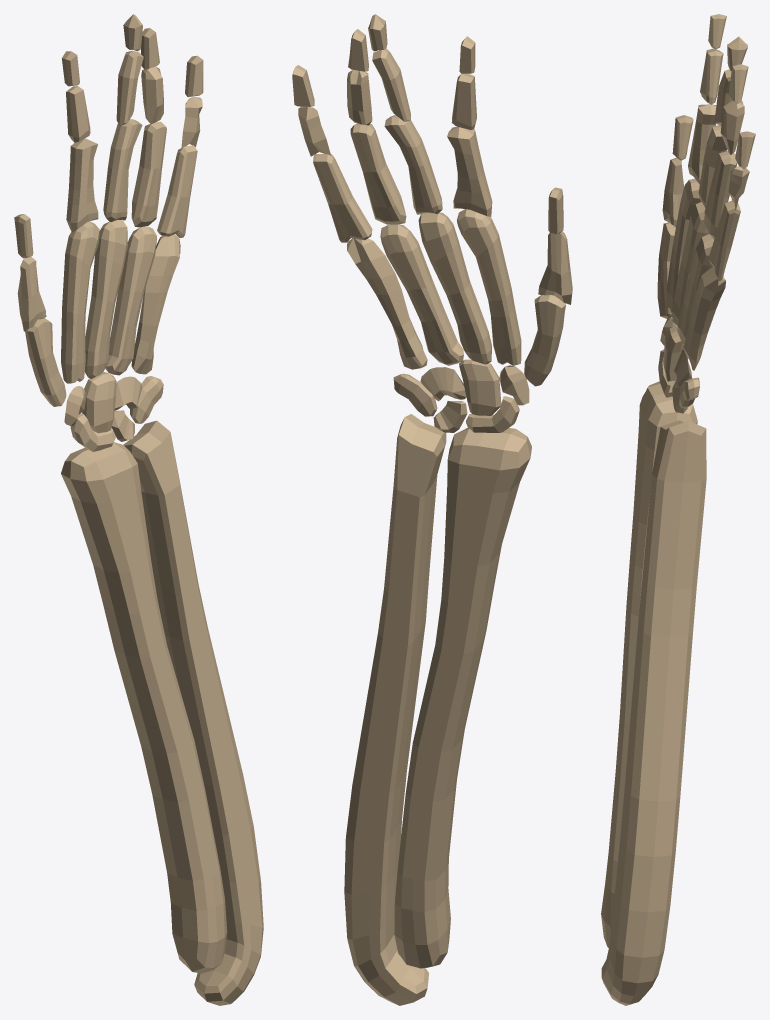
File: skeleton.fbx
The picture shows the model from 3 angles, left to right: view 1: azimuth 30°, elevation 25°; view 2: azimuth 150°, elevation 25°; view 3: azimuth 270°, elevation 25°; orthographic projection. The views are drawn at different scales.
Visible parts, largest first — view 1: skeleton; view 2: skeleton; view 3: skeleton.
Part boxes in pixels (x1=…): skeleton: x1=14, y1=14, x2=263, y2=1005; skeleton: x1=292, y1=14, x2=572, y2=1005; skeleton: x1=601, y1=14, x2=755, y2=1005.
Size of the model in its own units: 2.74 by 11.46 by 1.69.
